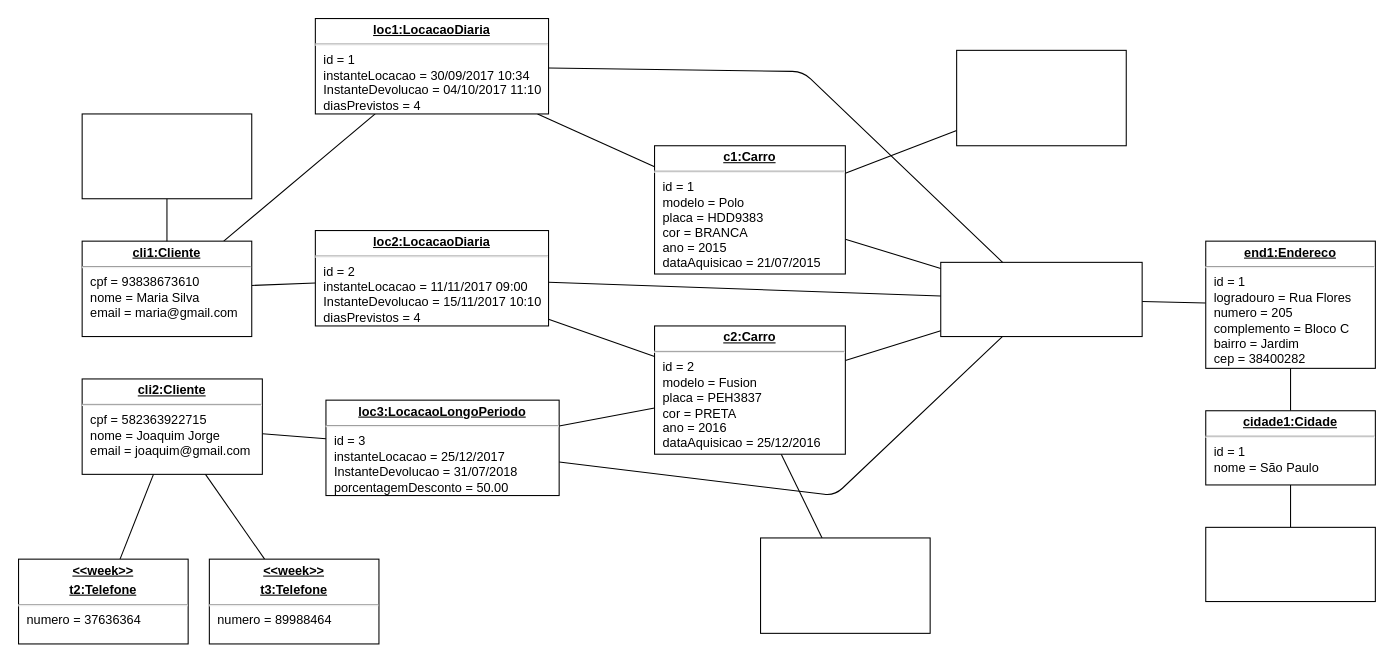
The diagram is 1394 pixels wide and 662 high, and some of its shapes have lost their labels. Here are the shapes that lost their labels. From the top down, the centre of each, then its label:
the point at 1041,97: cat:Categoria id = 1 descricao = Básico precoDiario = 60.00
the point at 166,156: <<week>> t1:Telefone numero = 37635393
the point at 1041,299: s1:Sede id = 1 localidade = 18.28272, 23.38474
the point at 1290,564: estado1:Estado id = 1 nome = São Paulo
the point at 844,585: cat2:Categoria id = 2 descricao = Luxo precoDiario = 150.00
